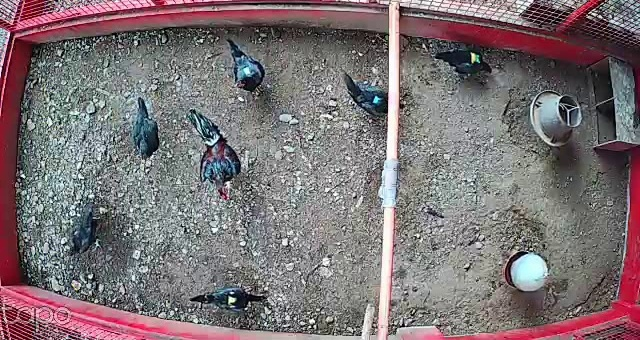Chicken: (341, 71, 406, 123), (224, 32, 272, 101), (433, 44, 499, 82), (188, 285, 268, 315), (70, 205, 110, 261), (132, 94, 162, 167), (229, 294, 239, 307)
Rooster: (184, 104, 246, 206)
Saddle_Color_Blue: (373, 95, 380, 104)
Saddle_Color_YellowGreen: (470, 54, 481, 64)
